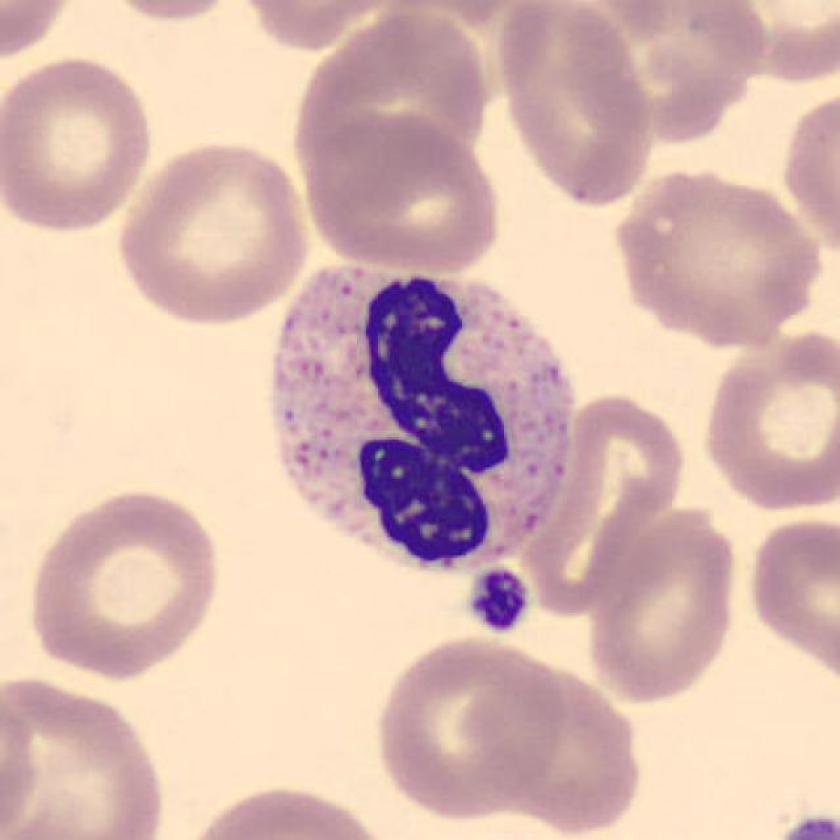neutrophil: (276, 263, 574, 572)
